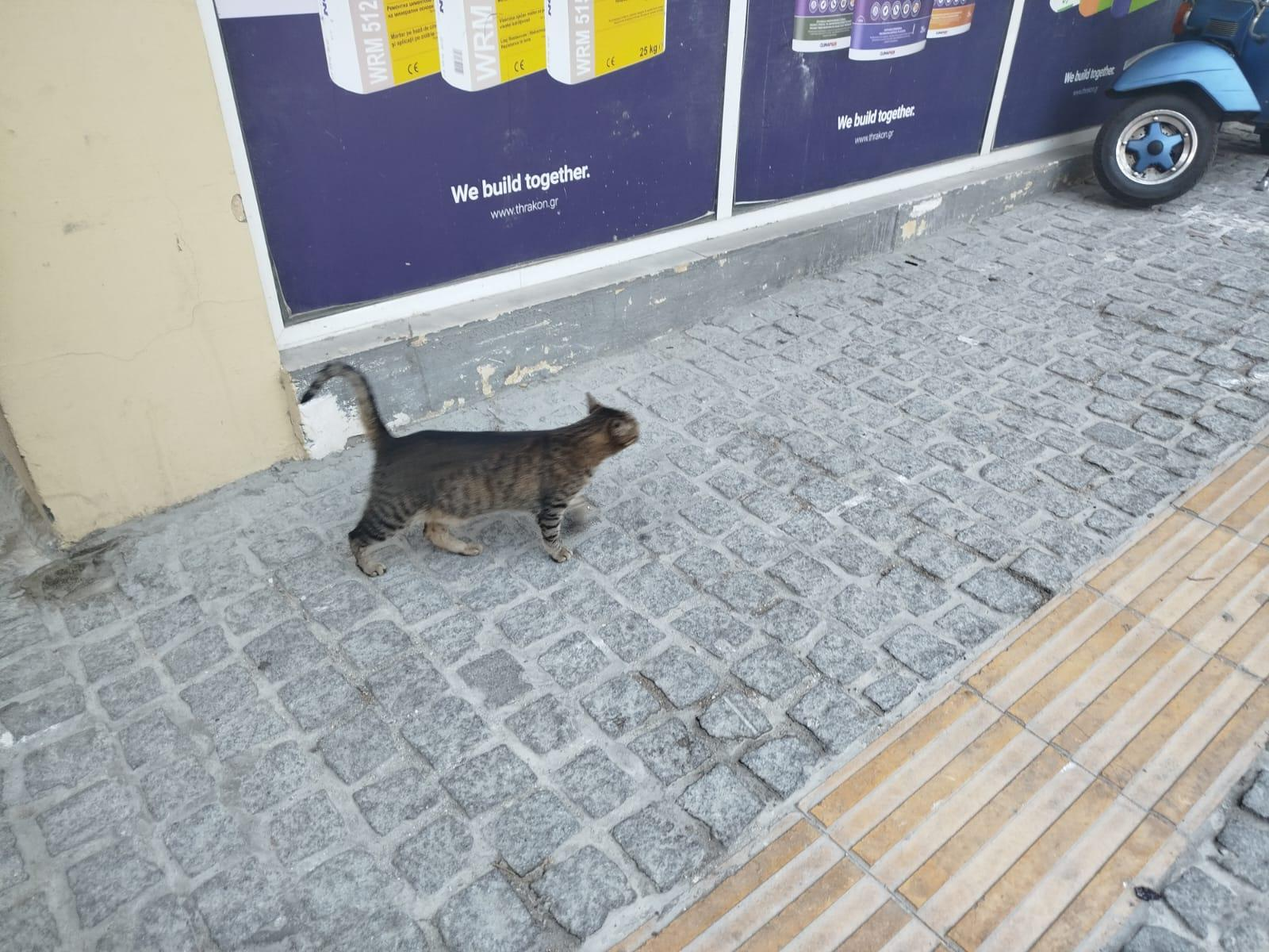macka: (297, 360, 642, 576)
